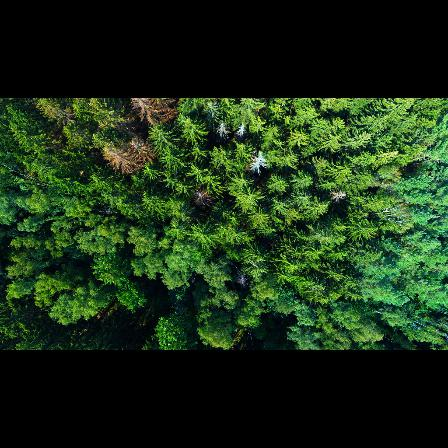Dead: (100, 139, 151, 174), (134, 98, 180, 127), (248, 149, 271, 176), (191, 187, 210, 206), (214, 122, 227, 145), (233, 273, 250, 290), (235, 121, 246, 144)
